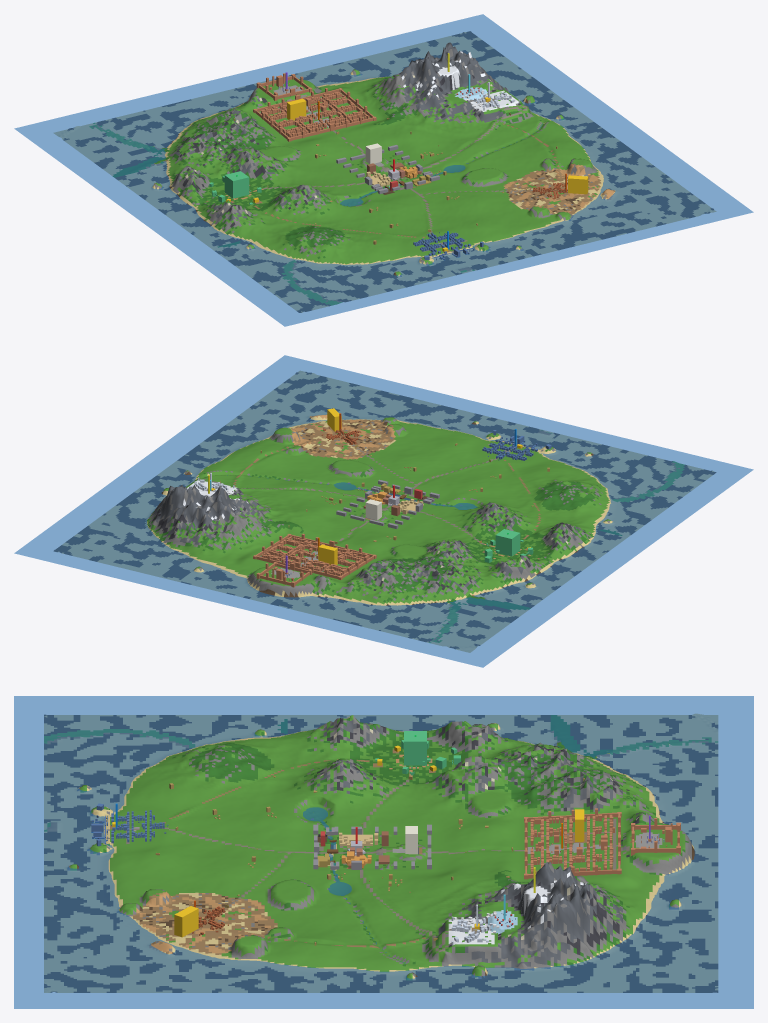
The model's file is phase1_map.obj.
The picture shows the model from 3 angles, top to bottom: view 1: azimuth 30°, elevation 25°; view 2: azimuth 150°, elevation 25°; view 3: azimuth 270°, elevation 25°; orthographic projection. The views are drawn at different scales.
Bounding box in the file's own units: 54 × 5.33 × 54.
